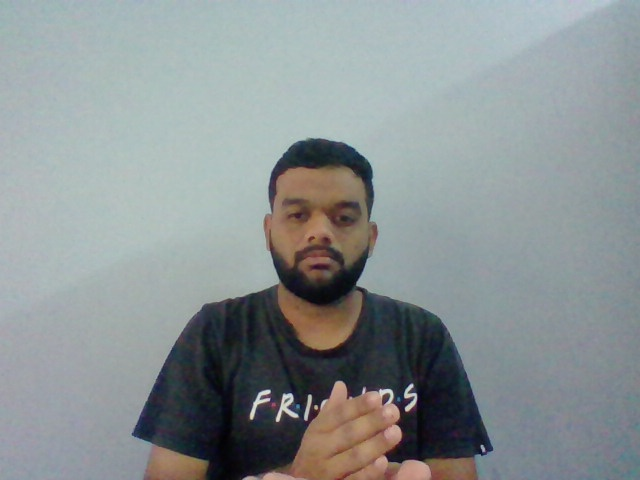Stop: (241, 376, 435, 480)
